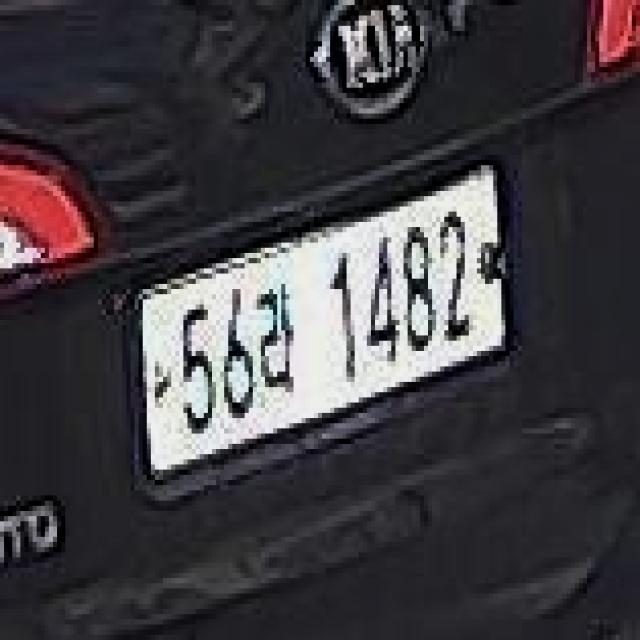illegal_plate: (132, 157, 514, 490)
